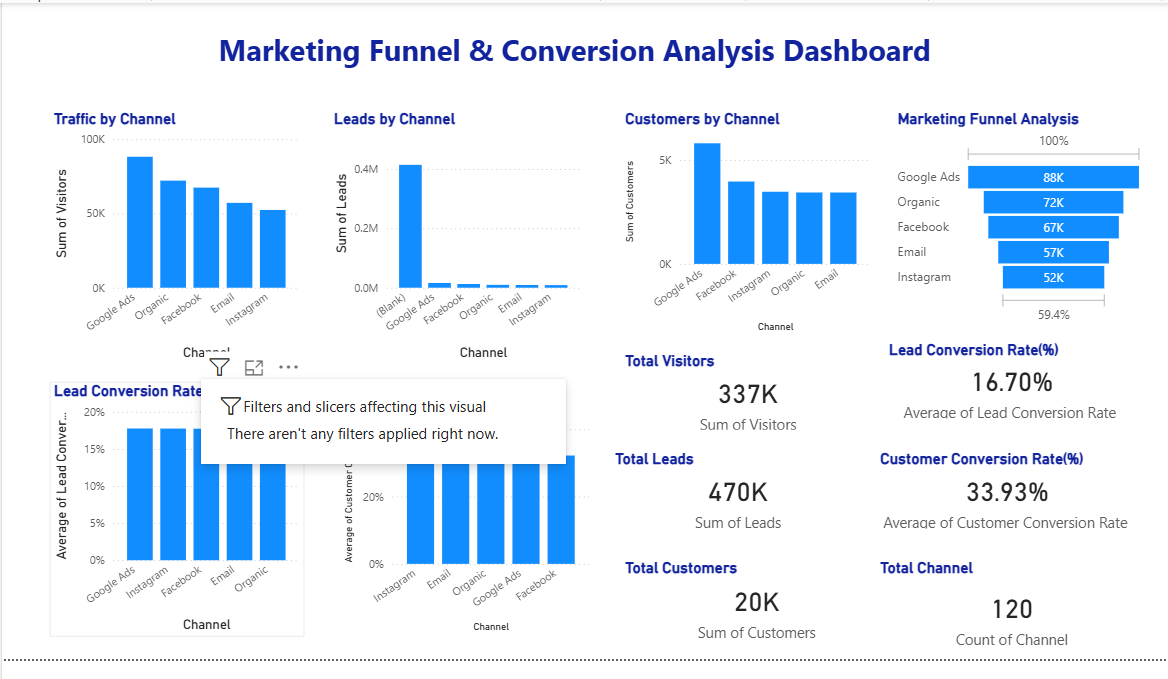

The dashboard page shown, as its layout file describes it:
{"tool":"powerbi","page":{"name":"Page 1","canvas":[1280,720],"ordinal":0},"visuals":[{"type":"clusteredColumnChart","title":"Traffic by Channel","fields":{"Category":["Sheet1.Channel"],"Y":["Sum(Sheet1.Visitors)"]},"box":[52.1,116.6,279.9,279.9],"z":0},{"type":"clusteredColumnChart","title":"Leads by Channel","fields":{"Category":["Sheet1.Channel"],"Y":["Sum(Sheet1.Leads)"]},"box":[359.5,116.6,279.9,279.9],"z":1000},{"type":"clusteredColumnChart","title":" Customers by Channel","fields":{"Category":["Sheet1.Channel"],"Y":["Sum(Sheet1.Customers)"]},"box":[679.2,116.6,279.9,249.7],"z":2000},{"type":"funnel","title":"Marketing Funnel Analysis","fields":{"Category":["Sheet1.Channel"],"Y":["Sum(Sheet1.Visitors)"]},"box":[978.4,116.6,279.9,240.1],"z":3000},{"type":"clusteredColumnChart","title":" Lead Conversion Rate  by Channel","fields":{"Category":["Sheet1.Channel"],"Y":["Avg(Sheet1.Lead Conversion Rate )"]},"box":[52.1,415.8,279.9,279.9],"z":4000},{"type":"clusteredColumnChart","title":" Customer Conversion Rate  by Channel","fields":{"Category":["Sheet1.Channel"],"Y":["Avg(Sheet1.Customer Conversion Rate )"]},"box":[370.5,415.8,279.9,279.9],"z":5000},{"type":"card","title":"Total Visitors ","fields":{"Values":["Sum(Sheet1.Visitors)"]},"box":[679.2,382.8,279.9,90.6],"z":6000},{"type":"card","title":"Total Leads","fields":{"Values":["Sum(Sheet1.Leads)"]},"box":[668.3,489.9,279.9,91.9],"z":7000},{"type":"card","title":"Lead Conversion Rate(%)","fields":{"Values":["Avg(Sheet1.Lead Conversion Rate )"]},"box":[968.8,370.5,279.9,90.6],"z":8000},{"type":"card","title":"Customer Conversion Rate(%)","fields":{"Values":["Avg(Sheet1.Customer Conversion Rate )"]},"box":[959.2,489.9,289.5,91.9],"z":9000},{"type":"card","title":"Total Customers ","fields":{"Values":["Sum(Sheet1.Customers)"]},"box":[679.2,609.3,299.1,96.1],"z":10000},{"type":"card","title":"Total Channel","fields":{"Values":["CountNonNull(Sheet1.Channel)"]},"box":[959.2,609.3,299.1,109.8],"z":11000},{"type":"textbox","box":[100.2,24.7,1055.2,65.9],"z":11001}]}

Visuals, with their boxes on the page's 1280x720 design canvas (x1, y1, x2, y2). These are canvas units, not pixel positions in the 1168x679 screenshot, which may show the page scaled, cropped or inside an application window:
"Traffic by Channel" clusteredColumnChart: box(52, 117, 332, 396)
"Leads by Channel" clusteredColumnChart: box(360, 117, 639, 396)
" Customers by Channel" clusteredColumnChart: box(679, 117, 959, 366)
"Marketing Funnel Analysis" funnel: box(978, 117, 1258, 357)
" Lead Conversion Rate  by Channel" clusteredColumnChart: box(52, 416, 332, 696)
" Customer Conversion Rate  by Channel" clusteredColumnChart: box(370, 416, 650, 696)
"Total Visitors " card: box(679, 383, 959, 473)
"Total Leads" card: box(668, 490, 948, 582)
"Lead Conversion Rate(%)" card: box(969, 370, 1249, 461)
"Customer Conversion Rate(%)" card: box(959, 490, 1249, 582)
"Total Customers " card: box(679, 609, 978, 705)
"Total Channel" card: box(959, 609, 1258, 719)
textbox: box(100, 25, 1155, 91)
